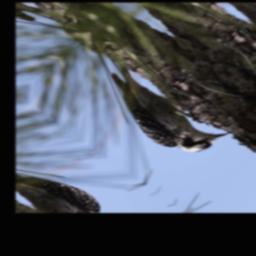Woodpecker: (77, 55, 238, 174)
